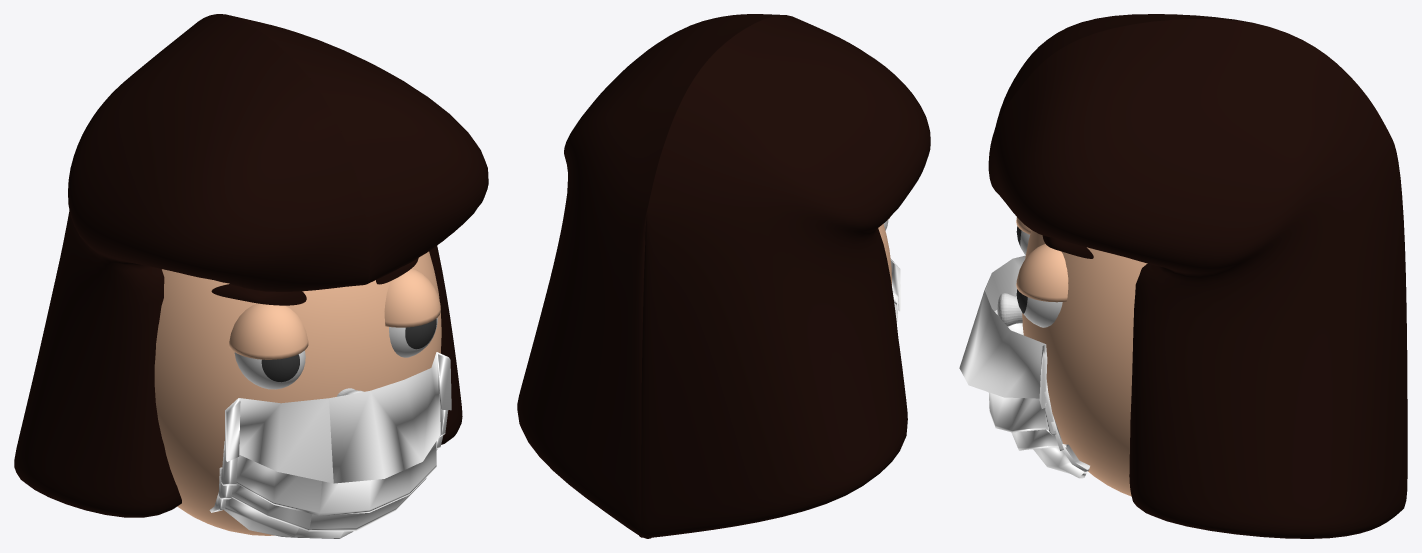
Rendered from Housewife_Head.fbx.
The picture shows the model from 3 angles, left to right: view 1: azimuth 30°, elevation 25°; view 2: azimuth 150°, elevation 25°; view 3: azimuth 270°, elevation 25°; orthographic projection. The views are drawn at different scales.
Visible parts, largest first — view 1: Cube.047, Plane.001, Cube.037, Sphere.006, Sphere.004, Cube.016; view 2: Cube.047; view 3: Cube.047, Cube.037, Plane.001, Sphere.006, Sphere.004, Cube.038, Cube.016.
Boxes of the visible parts, box(x1,y1,x2,y2) form: Cube.047: box(14, 14, 488, 517); Plane.001: box(209, 352, 451, 538); Cube.037: box(154, 251, 441, 535); Sphere.006: box(229, 268, 440, 359); Sphere.004: box(234, 318, 437, 389); Cube.016: box(211, 258, 418, 305); Cube.047: box(517, 14, 930, 538); Cube.047: box(988, 14, 1407, 538); Cube.037: box(1022, 230, 1147, 496); Plane.001: box(959, 255, 1089, 478); Sphere.006: box(1016, 217, 1068, 302); Sphere.004: box(1016, 226, 1062, 327); Cube.038: box(997, 293, 1022, 326); Cube.016: box(1042, 235, 1093, 258).
Size of the model in its own units: 160 by 190 by 157.
